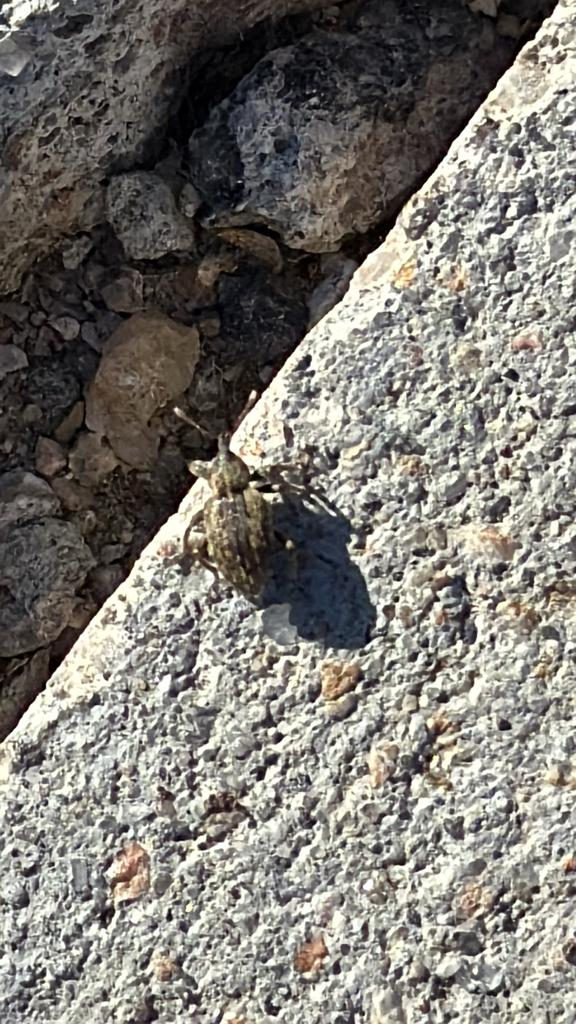weevils: (114, 363, 379, 637)
